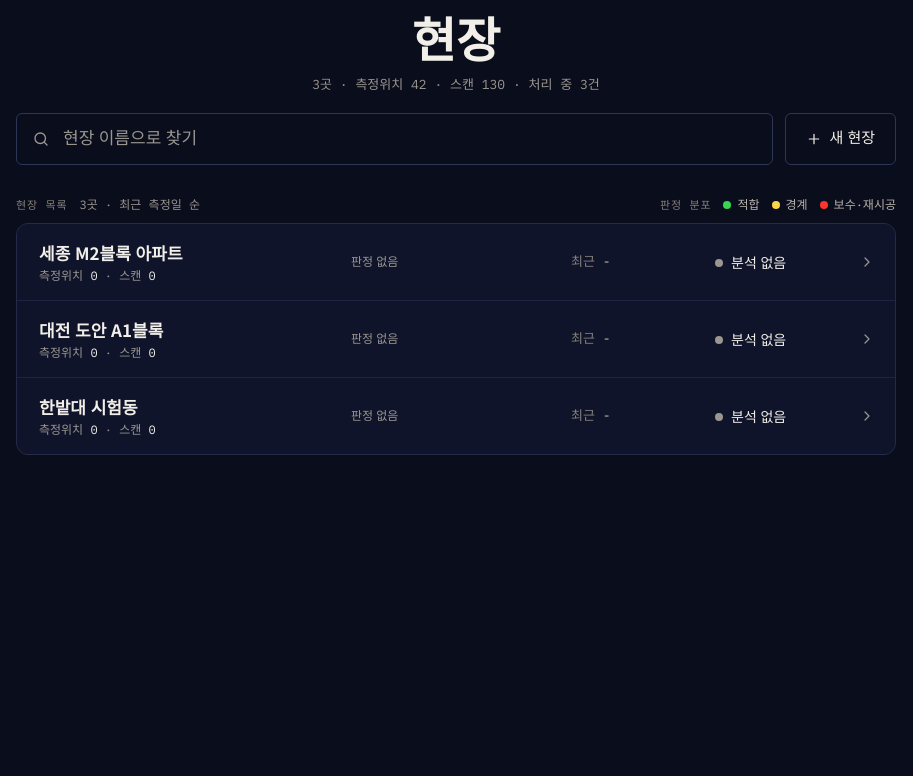
it: SiteFinder 새 현장 카드 (펼치기 · 접기 · 초점) › "새 현장" 토글은 카드가 닫혀 있으면 aria-controls 를 달지 않고, 열면 DOM 에 있는 카드 id(newSiteCard)를 가리킨다
The width and height of the screenshot is (913, 776).
Click the button "새 현장".
click(840, 139)  # box [785,113,896,165]
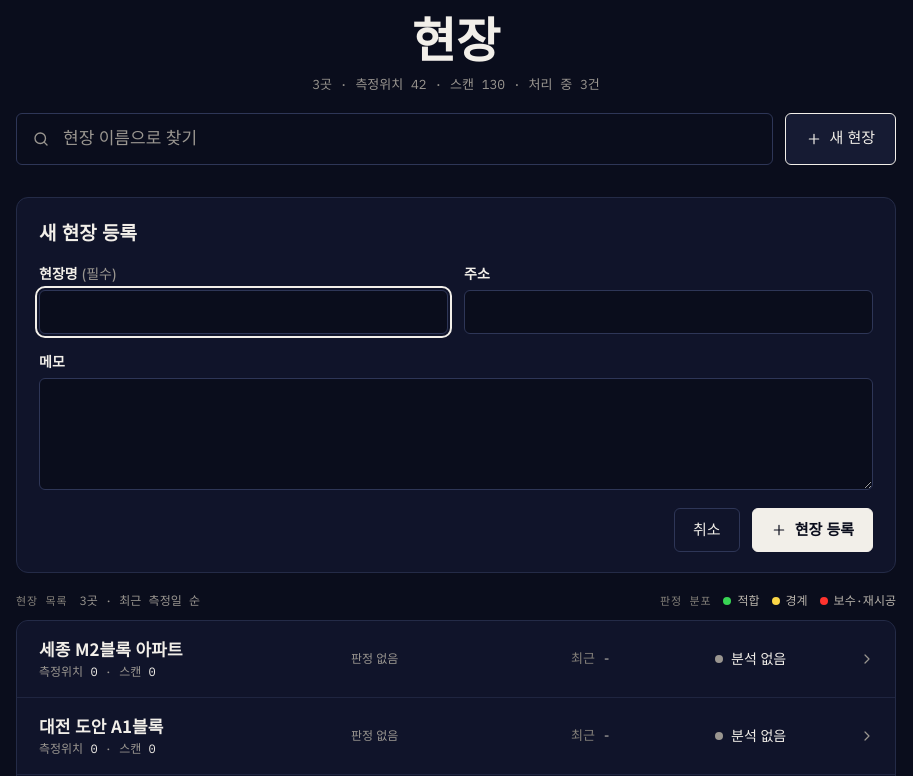
expect the element with id "newSiteCard" is shown: met, box [16,197,896,573]
Click the button "새 현장".
click(840, 139)  # box [785,113,896,165]
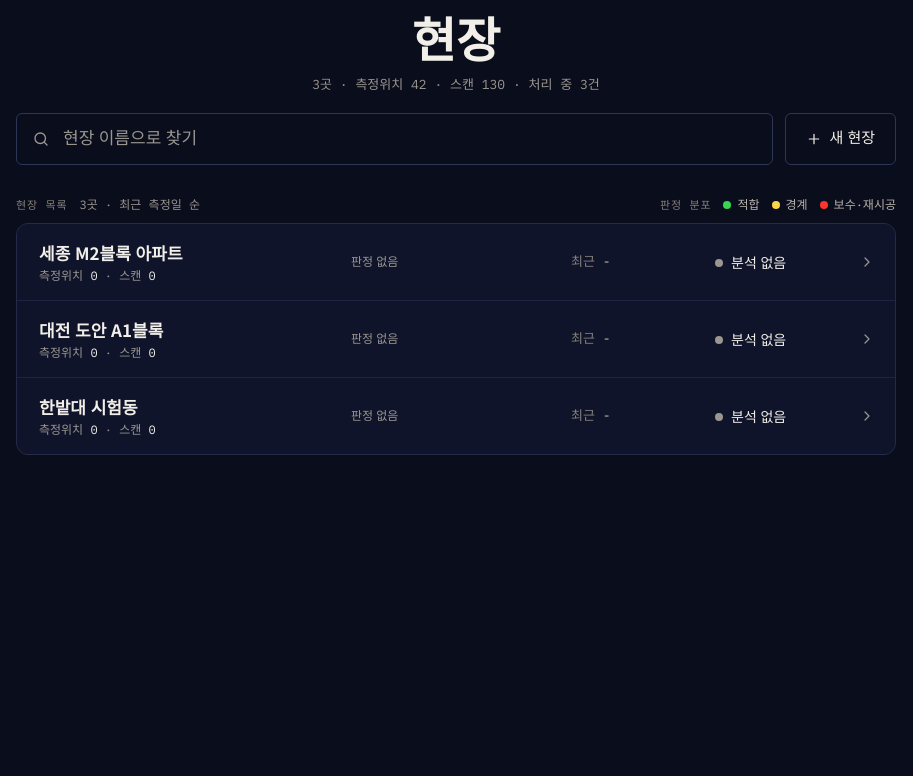
expect the element with id "newSiteCard" is gone: met
